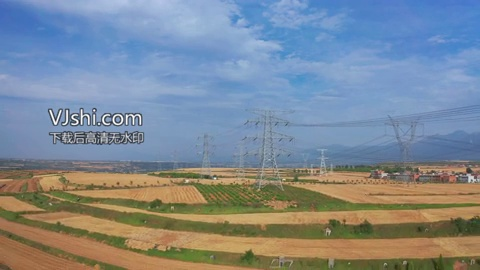tower_body: (240, 103, 303, 190), (382, 109, 426, 185)
tower_foot: (254, 169, 284, 189)
tower_head: (243, 105, 300, 126), (384, 113, 425, 142)
